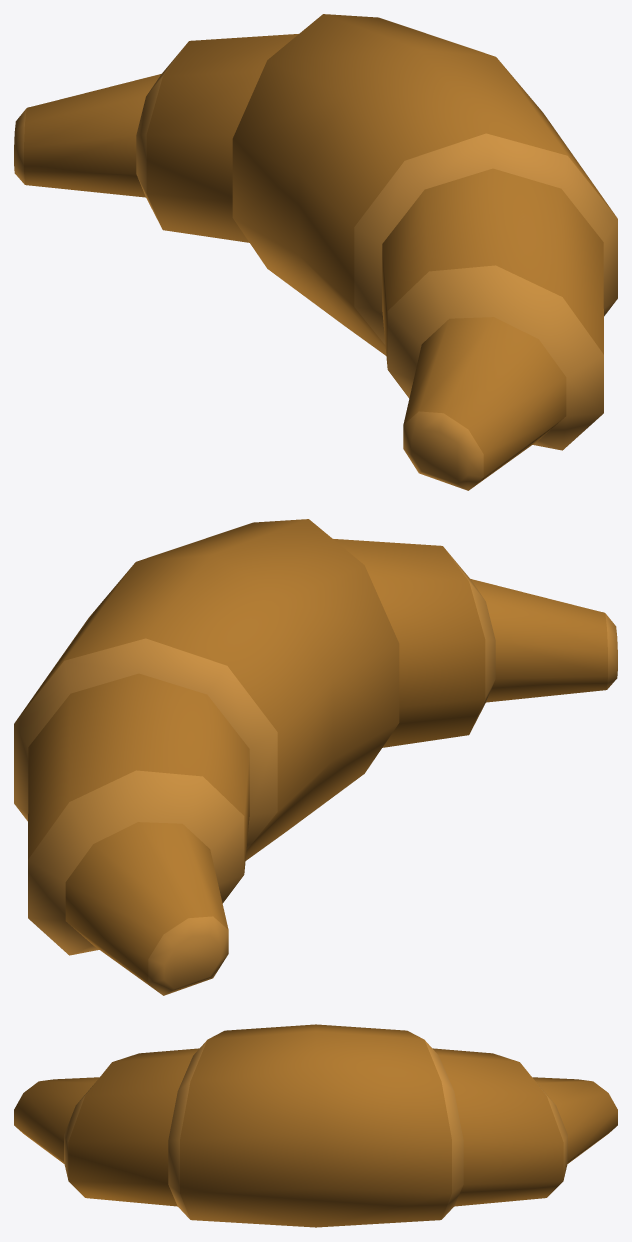
Rendered from Food_4.fbx.
The picture shows the model from 3 angles, top to bottom: view 1: azimuth 30°, elevation 25°; view 2: azimuth 150°, elevation 25°; view 3: azimuth 270°, elevation 25°; orthographic projection. The views are drawn at different scales.
Visible parts, largest first — view 1: Food_4; view 2: Food_4; view 3: Food_4.
Part boxes in pixels (x1=…): Food_4: x1=14, y1=14, x2=617, y2=490; Food_4: x1=14, y1=519, x2=617, y2=995; Food_4: x1=14, y1=1024, x2=617, y2=1227.
Bounding box in the file's own units: 5.18 × 3.98 × 12.34.
